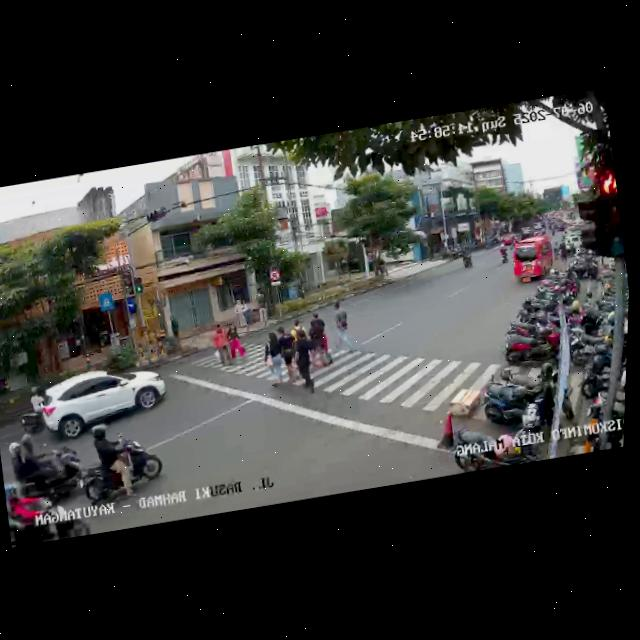car: (27, 358, 172, 449), (508, 234, 558, 287)
motorcycle: (75, 417, 170, 515), (0, 424, 89, 507), (2, 471, 94, 548), (15, 385, 49, 434), (459, 246, 475, 269), (495, 242, 511, 265)
person: (290, 328, 321, 395), (306, 310, 337, 373), (259, 331, 287, 389), (274, 324, 301, 384), (329, 299, 357, 354), (209, 323, 233, 368), (226, 323, 248, 359), (254, 288, 270, 322), (289, 317, 308, 341), (232, 300, 246, 329), (241, 299, 252, 329)
